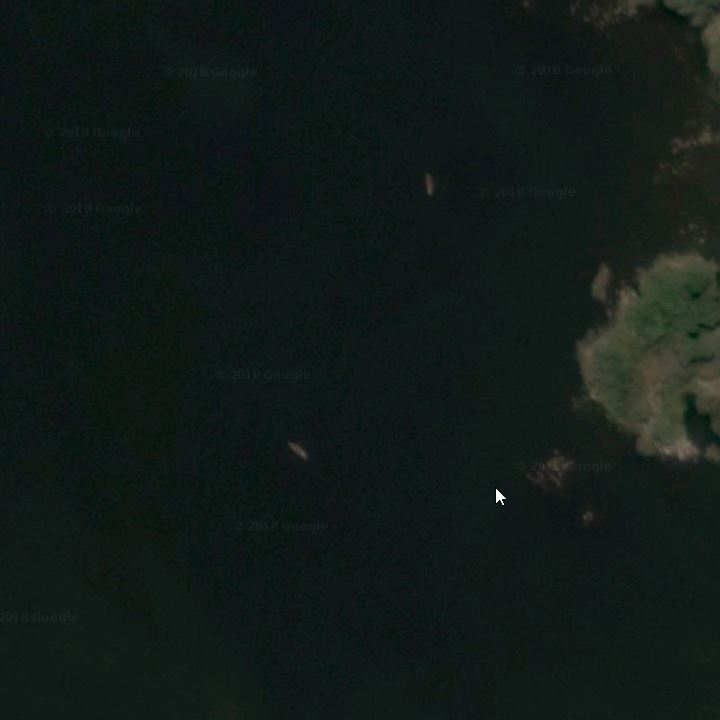boat: (282, 436, 320, 468), (419, 165, 441, 204)
